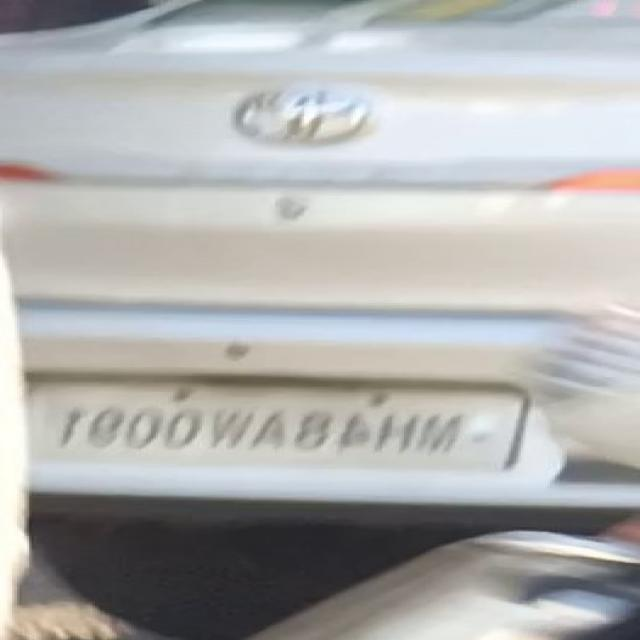license_plate: (18, 372, 542, 490)
